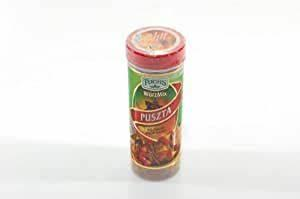metal: (126, 26, 186, 180)
